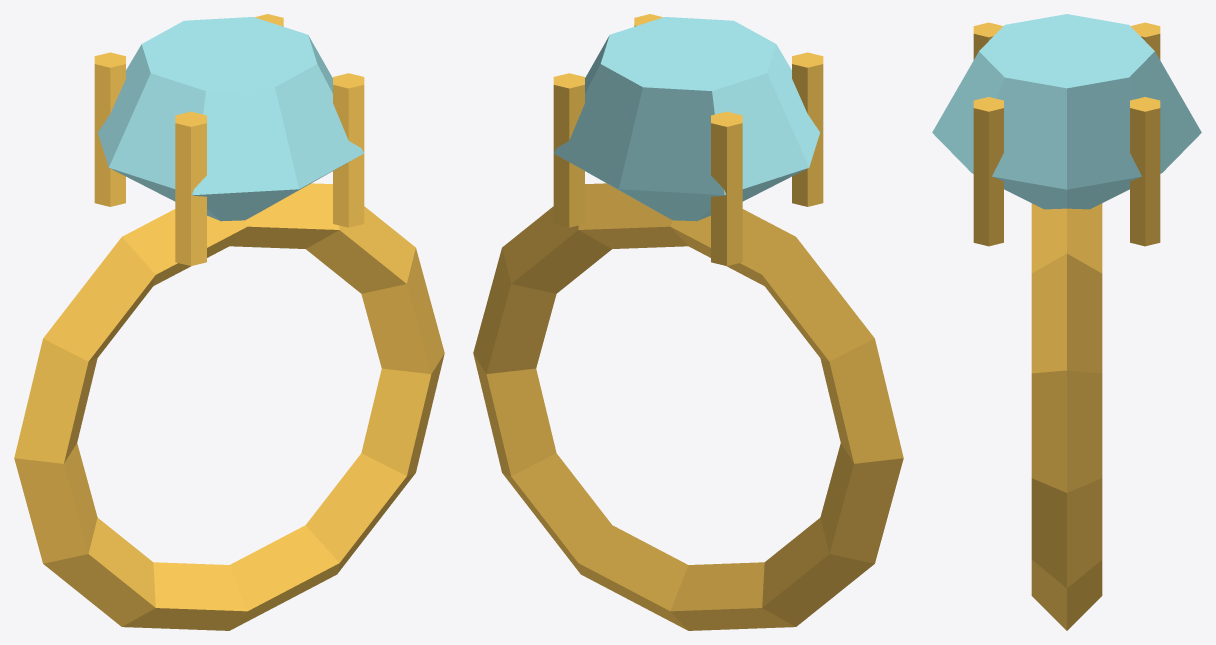
Rendered from 12-ring.glb.
3 renders of one model, left to right at view 1: azimuth 30°, elevation 25°; view 2: azimuth 150°, elevation 25°; view 3: azimuth 270°, elevation 25°, orthographic. The views are drawn at different scales.
Visible parts, largest first — view 1: 12-ring__GoldBand, 12-ring__Diamond, 12-ring__Prong_0, 12-ring__Prong_1, 12-ring__Prong_2; view 2: 12-ring__GoldBand, 12-ring__Diamond, 12-ring__Prong_2, 12-ring__Prong_3, 12-ring__Prong_0; view 3: 12-ring__Diamond, 12-ring__GoldBand, 12-ring__Prong_1, 12-ring__Prong_3, 12-ring__Prong_0, 12-ring__Prong_2.
Boxes of the visible parts, x1=… form: 12-ring__GoldBand: x1=14, y1=183, x2=444, y2=630; 12-ring__Diamond: x1=98, y1=17, x2=363, y2=221; 12-ring__Prong_0: x1=175, y1=111, x2=206, y2=265; 12-ring__Prong_1: x1=333, y1=73, x2=364, y2=227; 12-ring__Prong_2: x1=94, y1=52, x2=125, y2=206; 12-ring__GoldBand: x1=473, y1=183, x2=903, y2=630; 12-ring__Diamond: x1=554, y1=17, x2=819, y2=221; 12-ring__Prong_2: x1=711, y1=111, x2=742, y2=265; 12-ring__Prong_3: x1=553, y1=73, x2=584, y2=227; 12-ring__Prong_0: x1=792, y1=52, x2=823, y2=206; 12-ring__Diamond: x1=932, y1=14, x2=1201, y2=209; 12-ring__GoldBand: x1=1031, y1=203, x2=1102, y2=630; 12-ring__Prong_1: x1=973, y1=97, x2=1003, y2=246; 12-ring__Prong_3: x1=1130, y1=97, x2=1160, y2=246; 12-ring__Prong_0: x1=973, y1=22, x2=1003, y2=59; 12-ring__Prong_2: x1=1130, y1=22, x2=1160, y2=59.
Size of the model in its own units: 0.246 by 0.315 by 0.138.
